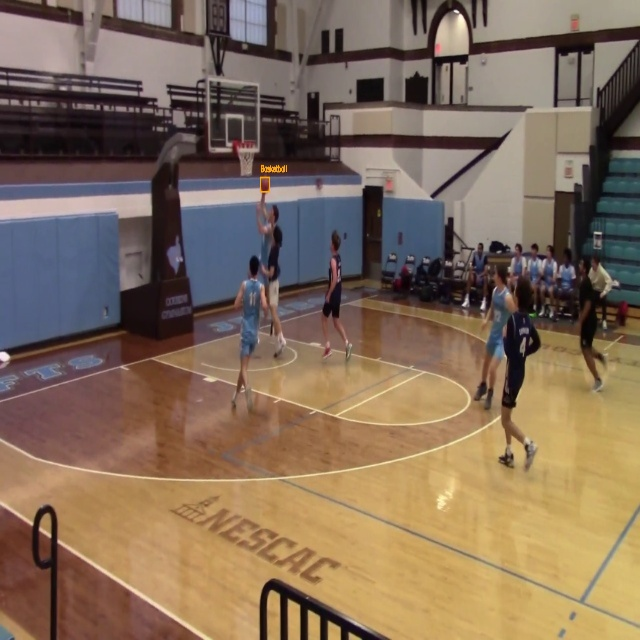Basketball: (260, 178, 270, 192)
